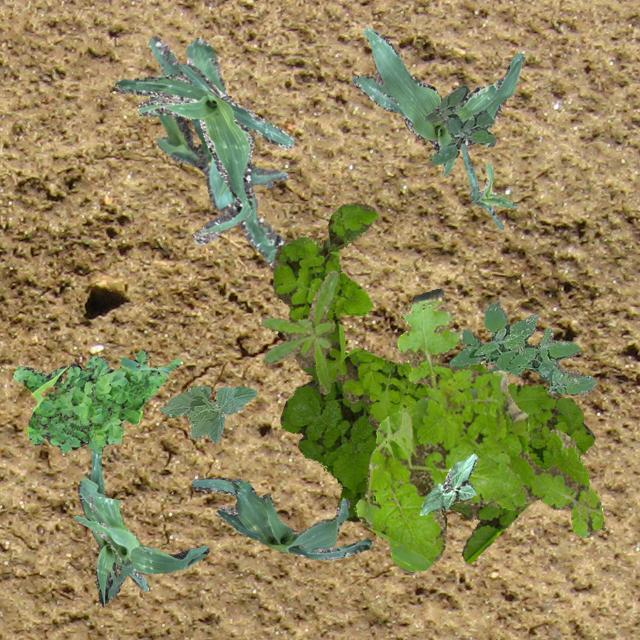crop: (115, 62, 291, 244), (148, 35, 286, 266), (350, 27, 522, 175), (76, 449, 208, 604), (190, 476, 370, 560), (72, 494, 148, 598), (158, 384, 256, 442), (459, 142, 516, 228), (418, 452, 476, 514), (452, 362, 501, 372)
weed: (272, 202, 594, 562), (354, 288, 604, 570), (279, 365, 472, 525), (12, 348, 180, 454), (448, 298, 594, 394), (262, 270, 338, 394), (424, 84, 494, 164)
